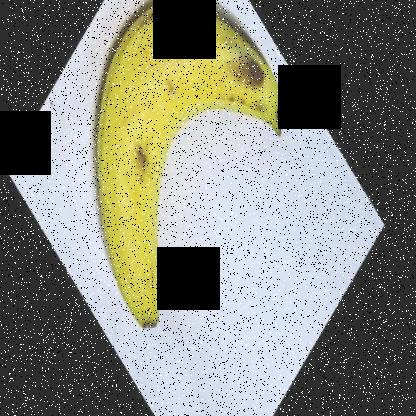freshripe: (66, 1, 300, 342)
